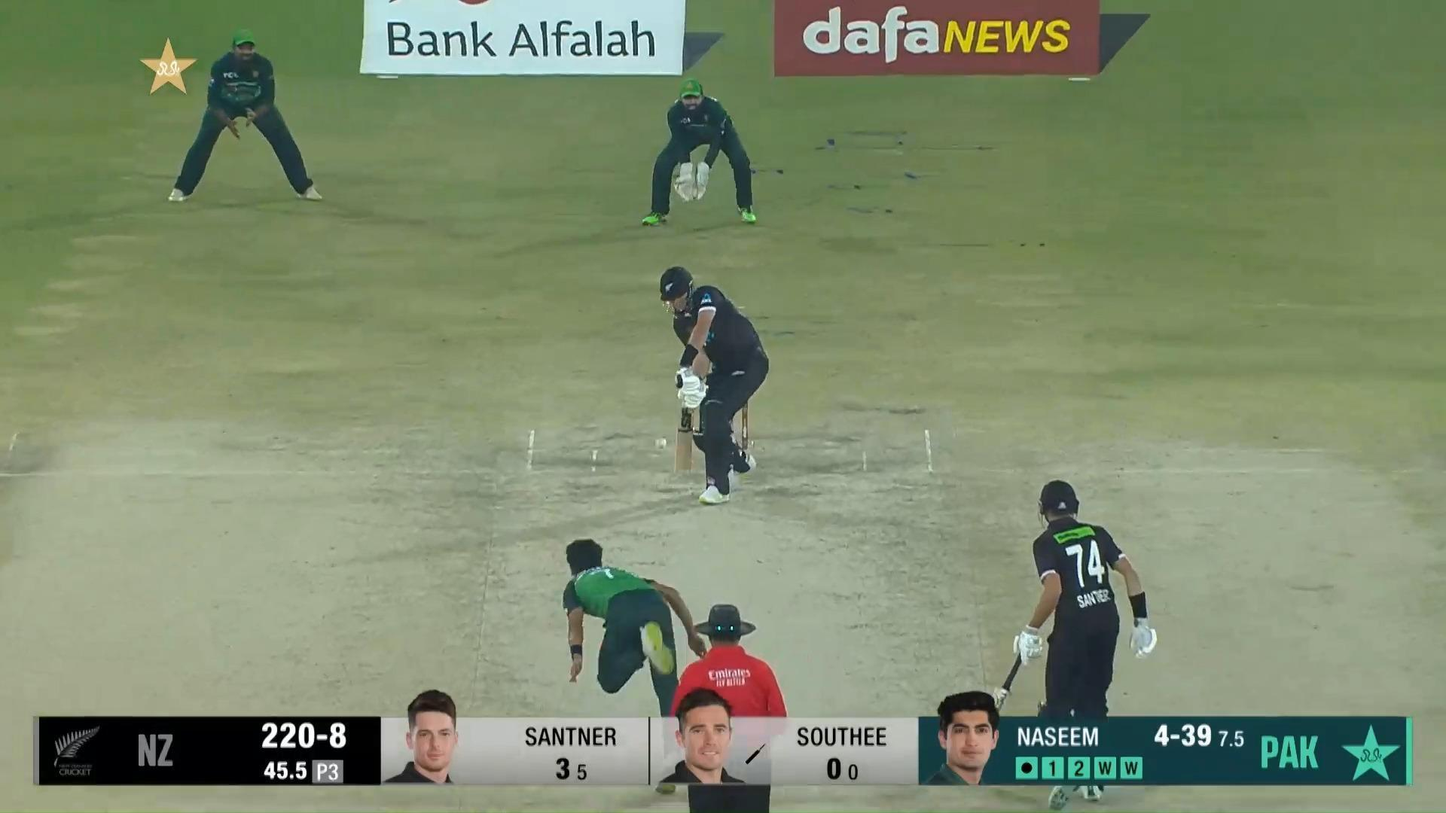BM 1: (660, 266, 772, 505)
BO: (563, 537, 711, 716)
